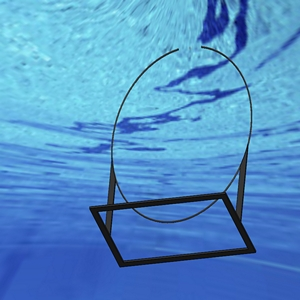circle: (88, 44, 257, 269)
